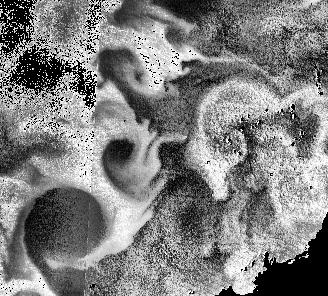AE: (16, 183, 117, 278), (96, 134, 142, 174)
